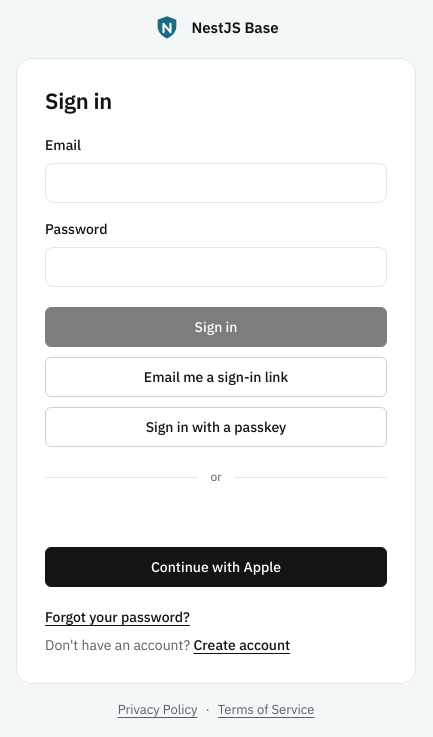
Test: LoginPage › mostra o erro da API (já traduzido pela própria API)
Type "jane@example.com" into the field labelled "Email".
click(216, 183); type("jane@example.com")  # box [45,163,387,203]
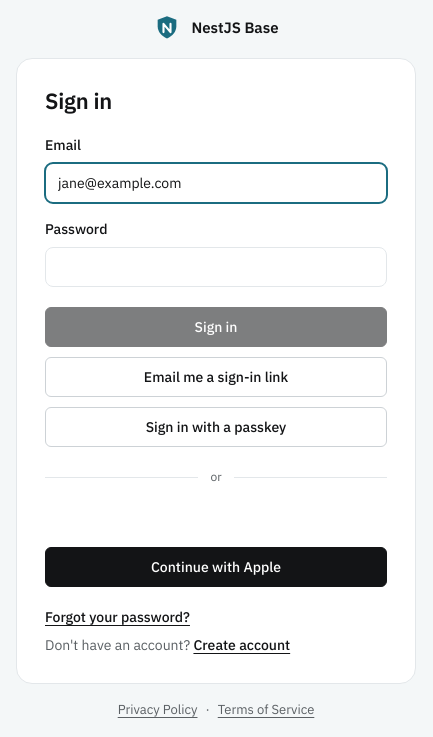
Type "wrong" into the password field labelled "Password".
click(216, 267); type("wrong")  # box [45,247,387,287]
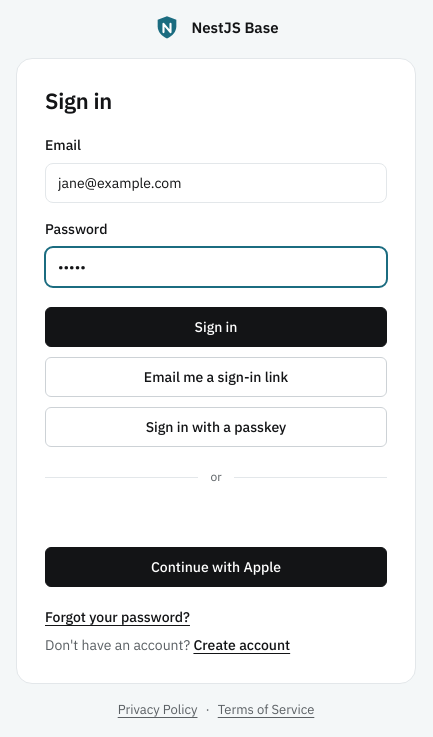
Click the button "Sign in".
click(216, 327)  # box [45,307,387,347]
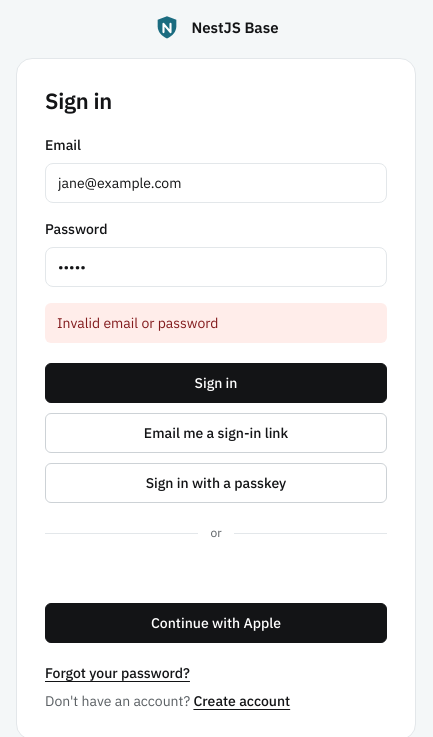
Check: the message reads "Invalid email or password", box [57,314,218,332]
